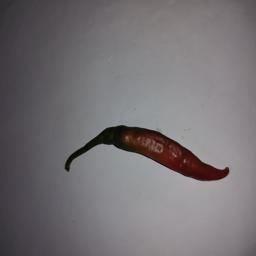Buah Cabai Sehat: (63, 123, 230, 182)
